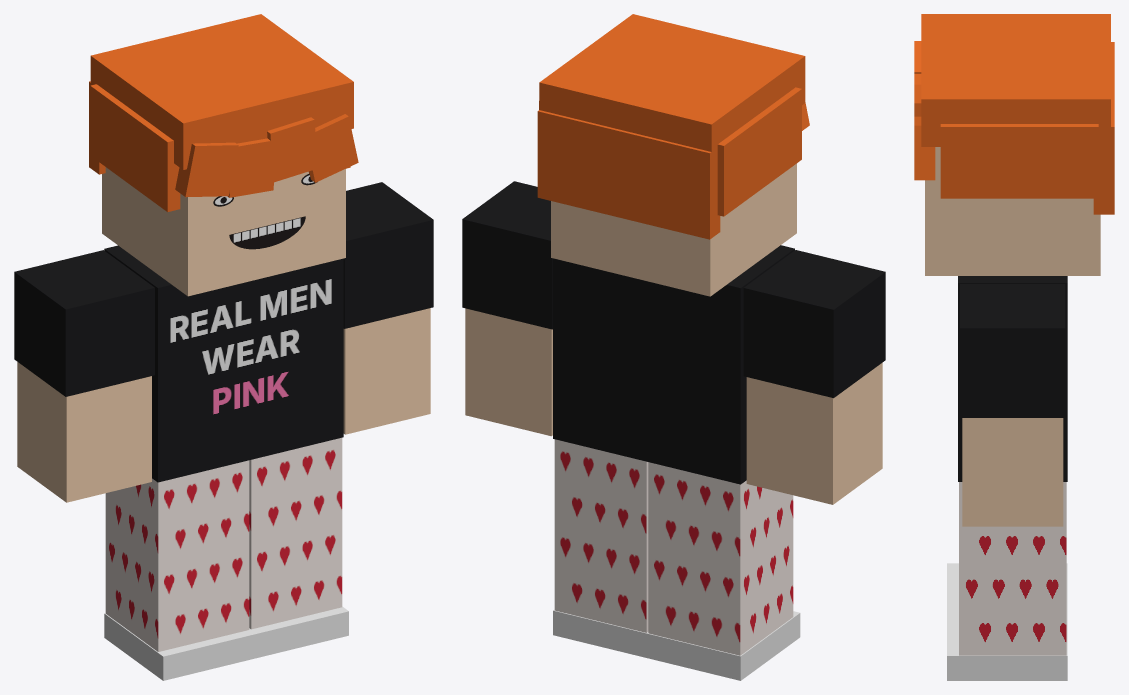
File: ginger_boy.glb
3 views of the same model, side by side, from view 1: azimuth 30°, elevation 25°; view 2: azimuth 150°, elevation 25°; view 3: azimuth 270°, elevation 25° (orthographic). The views are drawn at different scales.
Visible parts, largest first — view 1: head, torso, arm_R, leg_R, arm_L, leg_L, face; view 2: head, torso, arm_R, leg_R, arm_L, leg_L; view 3: head, arm_L, leg_L, torso, leg_R.
Part boxes in pixels (box(x1,y1,x2,y2)): head: box(89, 14, 358, 296); torso: box(104, 245, 343, 482); arm_R: box(14, 250, 154, 502); leg_R: box(104, 460, 256, 680); arm_L: box(343, 182, 433, 434); leg_L: box(249, 437, 348, 658); face: box(213, 173, 317, 249); head: box(537, 14, 809, 296); torso: box(553, 245, 794, 484); arm_R: box(743, 250, 885, 504); leg_R: box(647, 462, 800, 680); arm_L: box(462, 181, 552, 436); leg_L: box(553, 439, 648, 657); head: box(914, 14, 1114, 275); arm_L: box(960, 284, 1065, 526); leg_L: box(947, 482, 1067, 680); torso: box(958, 276, 1067, 481); leg_R: box(947, 563, 1067, 609).
Bounding box in the file's own units: 0.99 × 1.45 × 0.456.
Materials: 8 (3 with a texture image).
